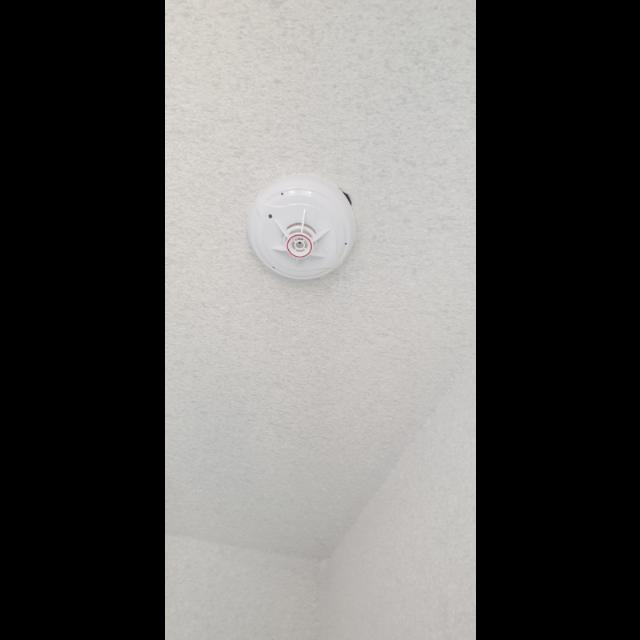Smoke-Detector: (246, 176, 354, 280)
